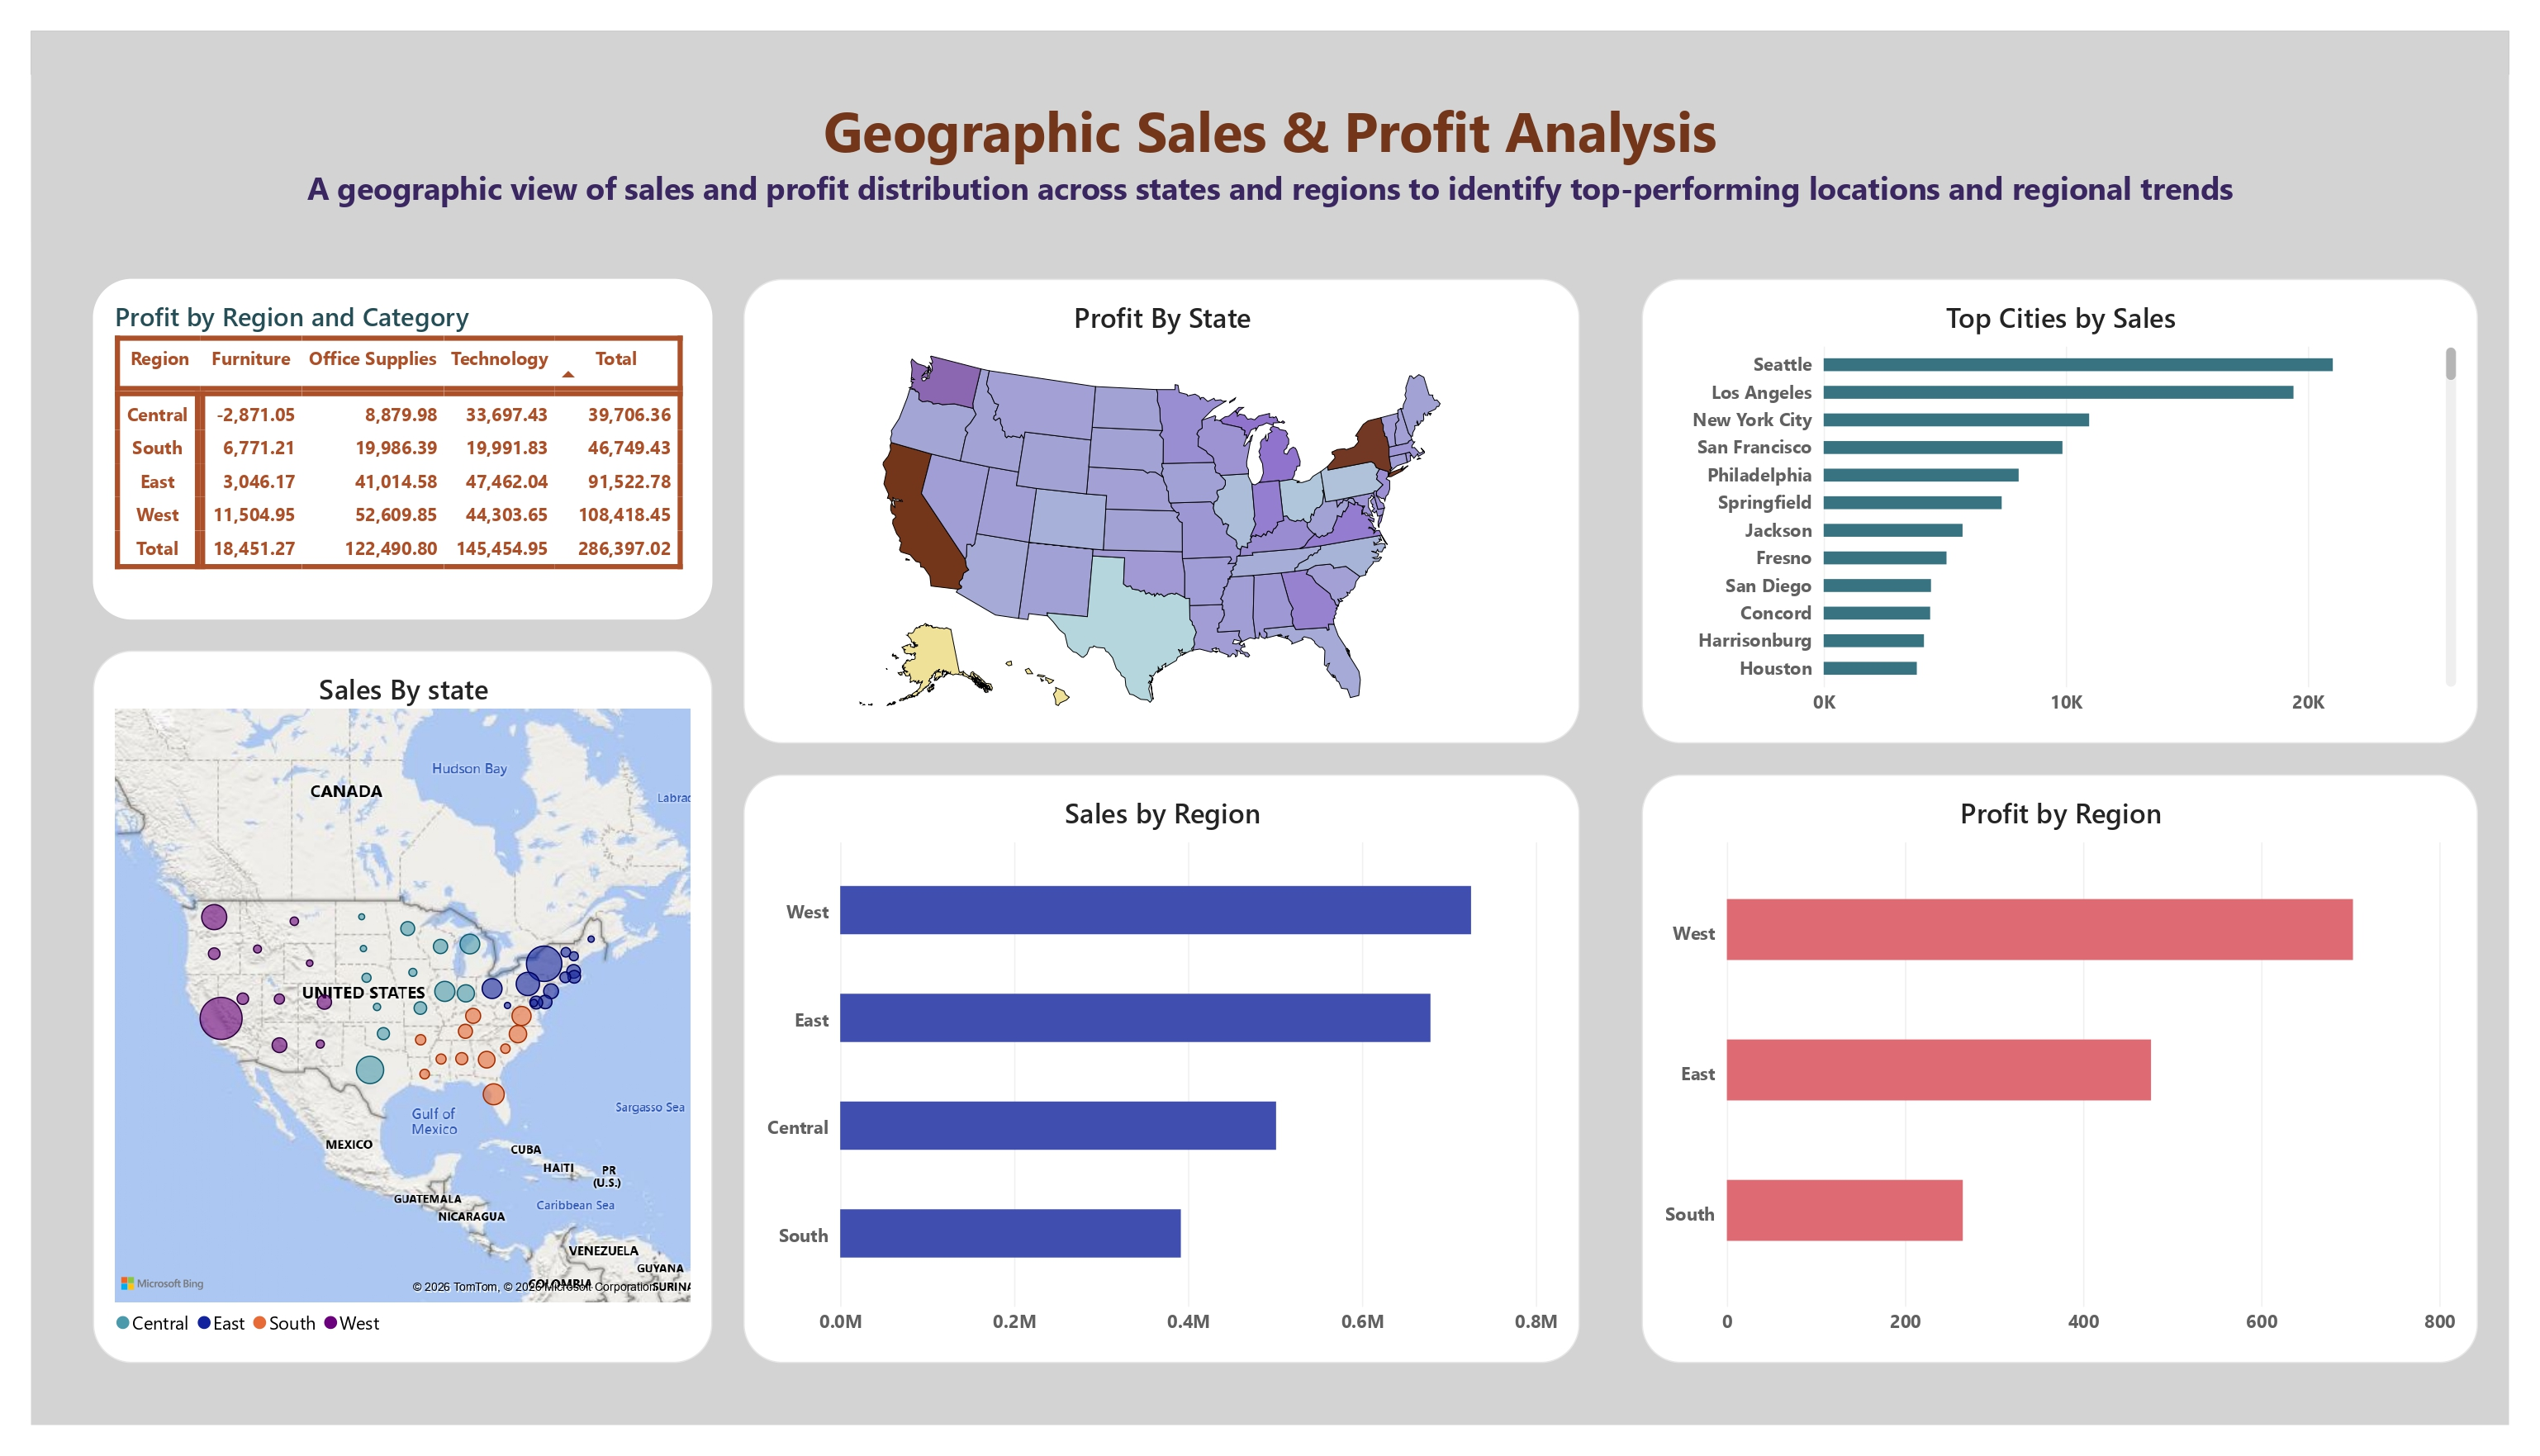

The dashboard page shown, as its layout file describes it:
{"tool":"powerbi","page":{"name":"Geographic Analysis","canvas":[1920,1080],"ordinal":2},"visuals":[{"type":"shapeMap","title":"Profit By State","fields":{"Category":["cleaned_data.State"],"Value":["Sum(cleaned_data.Profit)"]},"box":[552,192,648,360],"z":0},{"type":"barChart","title":"Top Cities by Sales","fields":{"Category":["cleaned_data.City"],"Y":["Sum(cleaned_data.Sales)"]},"box":[1248,192,648,360],"z":1000},{"type":"barChart","title":"Sales by Region","fields":{"Category":["cleaned_data.Region"],"Y":["Sum(cleaned_data.Sales)"]},"box":[552,576,648,456],"z":2000},{"type":"map","title":"Sales By state","fields":{"Category":["cleaned_data.State"],"Series":["cleaned_data.Region"],"Size":["Sum(cleaned_data.Sales)"]},"box":[48,480,480,552],"z":3000},{"type":"textbox","box":[72,48,1776,144],"z":4000},{"type":"pivotTable","title":"Profit by Region and Category","fields":{"Columns":["cleaned_data.Category"],"Rows":["cleaned_data.Region"],"Values":["Sum(cleaned_data.Profit)"]},"box":[48,192,480,264],"z":5000},{"type":"barChart","title":"Profit by Region","fields":{"Category":["cleaned_data.Region"],"Y":["Sum(cleaned_data.Profit Margin)"]},"box":[1248,576,648,456],"z":6000}]}

Visuals, with their boxes on the page's 1920x1080 design canvas (x1, y1, x2, y2). These are canvas units, not pixel positions in the 2540x1456 screenshot, which may show the page scaled, cropped or inside an application window:
"Profit By State" shapeMap: bbox=(552, 192, 1200, 552)
"Top Cities by Sales" barChart: bbox=(1248, 192, 1896, 552)
"Sales by Region" barChart: bbox=(552, 576, 1200, 1032)
"Sales By state" map: bbox=(48, 480, 528, 1032)
textbox: bbox=(72, 48, 1848, 192)
"Profit by Region and Category" pivotTable: bbox=(48, 192, 528, 456)
"Profit by Region" barChart: bbox=(1248, 576, 1896, 1032)
